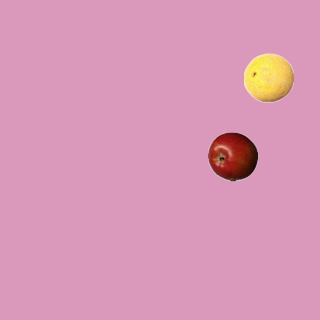Apple Braeburn: (207, 131, 257, 181)
Cantaloupe 1: (243, 52, 293, 102)
